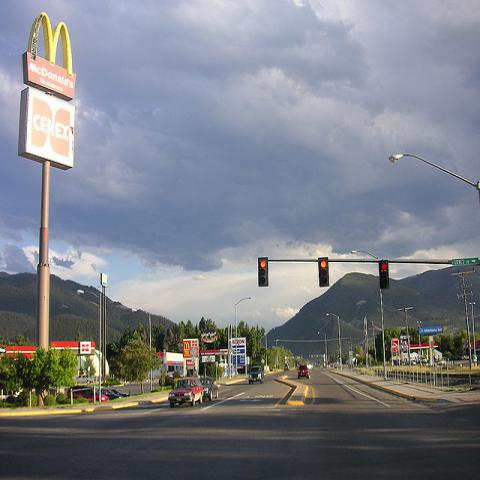car: (168, 376, 204, 408), (67, 385, 99, 403), (202, 376, 220, 400), (101, 388, 122, 403), (298, 364, 310, 380), (112, 389, 131, 397), (284, 362, 290, 370)
truck: (248, 366, 265, 384), (297, 364, 309, 379)
